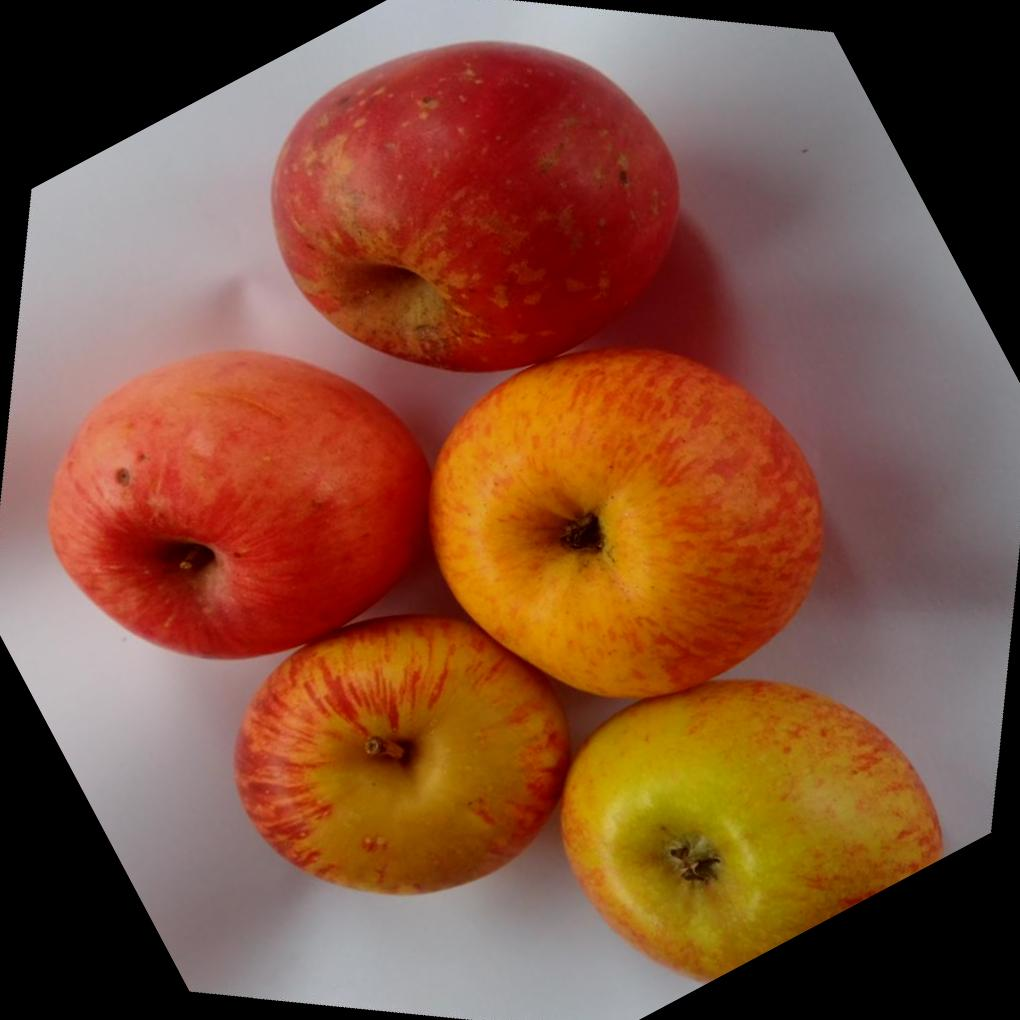FreshGuava: (44, 37, 941, 956)
